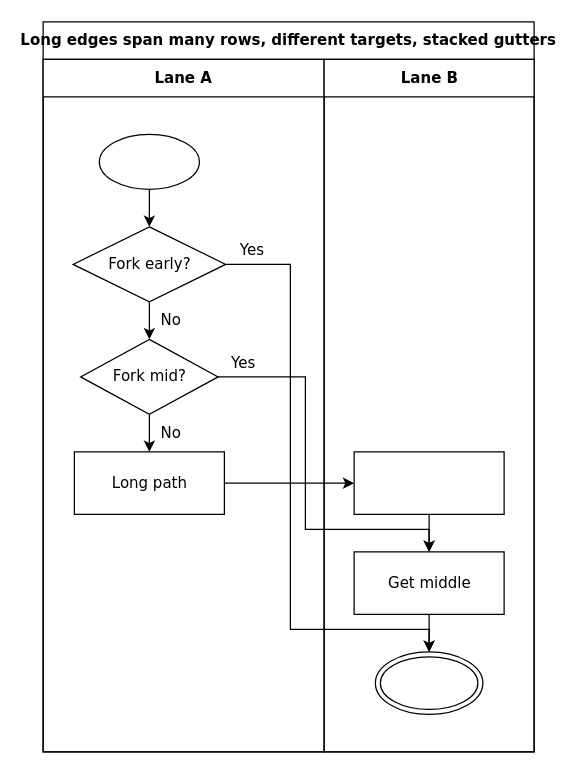
Some shapes in this 578 by 774 pixel diagram are drawn without their labels. The shapes that lost their labels are listed below. From the top down, each one's centre as x and y in pixels, then its label:
At point (148, 161): "Enter".
At point (428, 482): "Get last".
At point (428, 682): "Finish".
